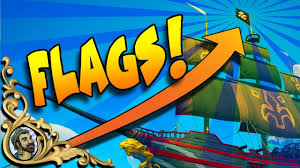Jolly Roger Flag: (235, 5, 254, 27)
